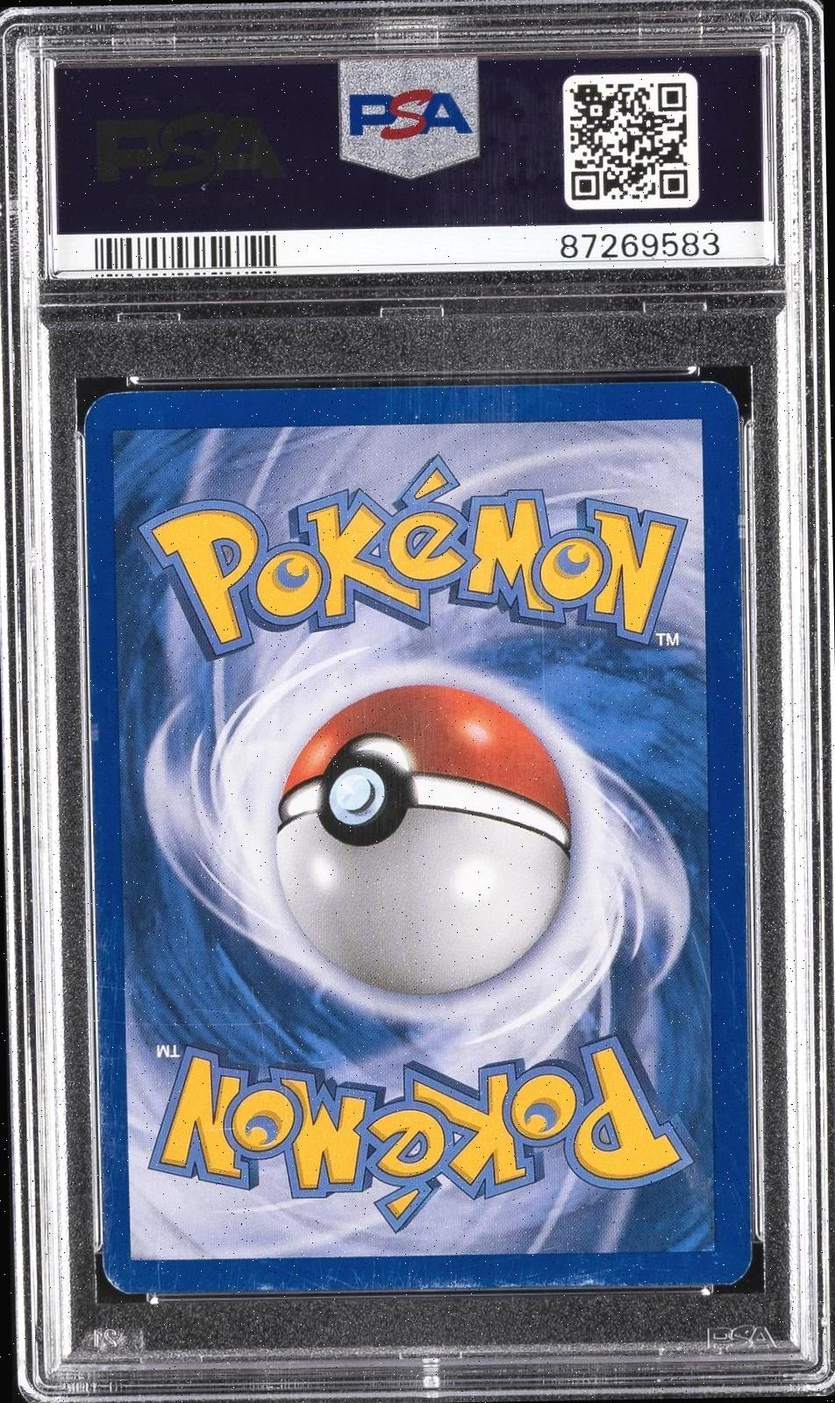card-2UtV: (83, 380, 753, 1295)
